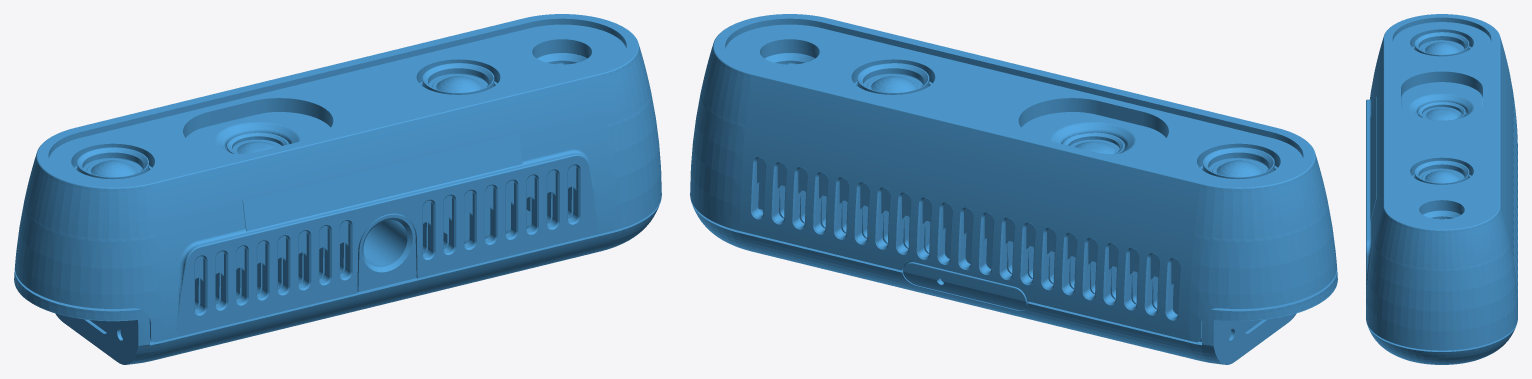
3 views of the same model, side by side, from view 1: azimuth 30°, elevation 25°; view 2: azimuth 150°, elevation 25°; view 3: azimuth 270°, elevation 25° (orthographic). The views are drawn at different scales.
Parts seen in each view (by area): view 1: _b3aea852d36660f8dc55aaa_012, _b3aea852d36660f8dc55aaa_017; view 2: _b3aea852d36660f8dc55aaa_012; view 3: _b3aea852d36660f8dc55aaa_012, _b3aea852d36660f8dc55aaa_017.
Boxes of the visible parts, left/top/right/bottom form: _b3aea852d36660f8dc55aaa_012: left=14, top=14, right=661, bottom=364; _b3aea852d36660f8dc55aaa_017: left=242, top=133, right=522, bottom=231; _b3aea852d36660f8dc55aaa_012: left=690, top=14, right=1337, bottom=364; _b3aea852d36660f8dc55aaa_012: left=1366, top=14, right=1517, bottom=364; _b3aea852d36660f8dc55aaa_017: left=1370, top=97, right=1376, bottom=220.
Bounding box in the file's own units: 0.0899 × 0.025 × 0.0251.
